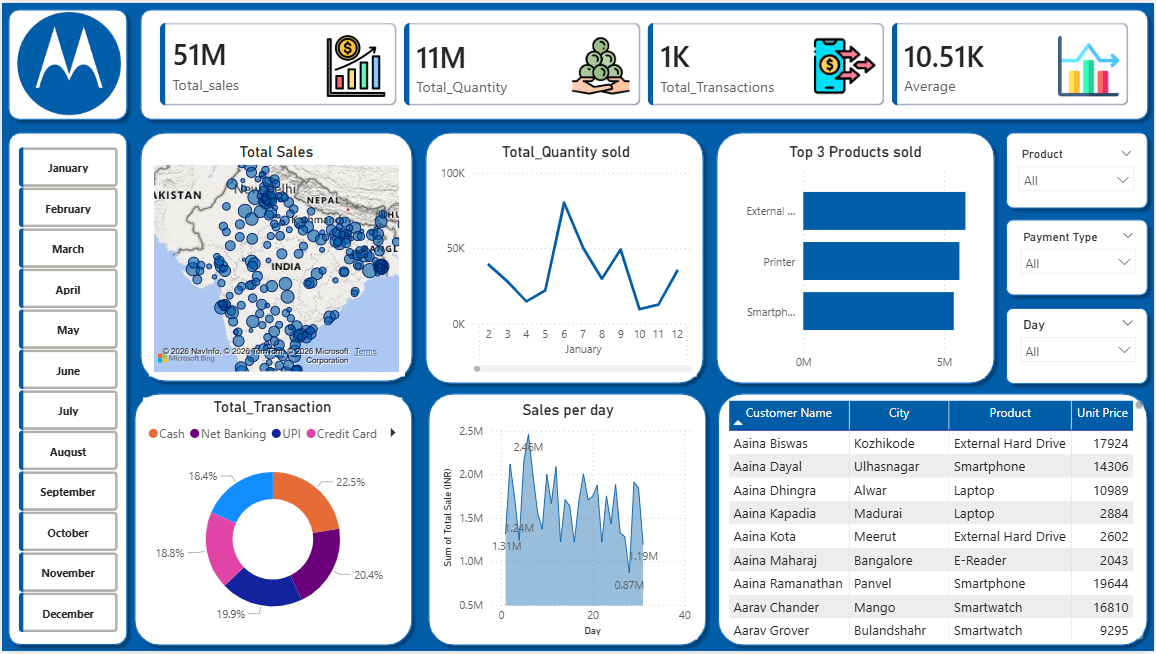

The page's visual inventory and layout, read from the dashboard file:
{"tool":"powerbi","page":{"name":"Page 1","canvas":[1280,720],"ordinal":0},"visuals":[{"type":"shape","box":[0,0,146.3,136.8],"z":0},{"type":"shape","box":[0,136.8,146.3,583.8],"z":1000},{"type":"advancedSlicerVisual","fields":{"Values":["Sales_Data.Sales Date.Variation.Date Hierarchy.Month"]},"box":[12.7,154.3,120.9,550.4],"z":2000},{"type":"shape","box":[146.3,0,1134.1,136.8],"z":3000},{"type":"cardVisual","fields":{"Data":["Sales_Data.Total_sales","Sales_Data.Total_Quantity","Sales_Data.Total_Transactions","Sales_Data.Average"]},"box":[163.8,9.5,1103.9,116.1],"z":4000},{"type":"shape","box":[146.3,136.8,316.5,291.1],"z":5000},{"type":"shape","box":[463.3,136.7,323.3,293.3],"z":6000},{"type":"map","title":"Total Sales","fields":{"Size":["Sum(Sales_Data.Total Sale (INR))"],"Category":["Sales_Data.City"]},"box":[163.8,154.3,283.1,259.3],"z":7000},{"type":"lineChart","title":"Total_Quantity sold","fields":{"Y":["Sales_Data.Total_Quantity"],"Category":["Sales_Data.Sales Date.Variation.Date Hierarchy.Month","Sales_Data.Sales Date.Variation.Date Hierarchy.Day"]},"box":[481.7,155,290,260],"z":8000},{"type":"shape","box":[786.7,136.7,323.3,293.3],"z":9000},{"type":"clusteredBarChart","title":"Top 3 Products sold","fields":{"Y":["Sum(Sales_Data.Total Sale (INR))"],"Category":["Sales_Data.Product"]},"box":[805,155,286.7,261.7],"z":10000},{"type":"shape","box":[140,426.3,322.9,294.3],"z":11000},{"type":"donutChart","title":"Total_Transaction","fields":{"Category":["Sales_Data.Payment Type"],"Y":["Sales_Data.Total_Transactions"]},"box":[157.5,439,287.9,265.6],"z":12000},{"type":"shape","box":[788.9,426.3,491.5,294.3],"z":13000},{"type":"tableEx","title":"Total_Transaction","fields":{"Values":["Sales_Data.Customer Name","Sales_Data.City","Sales_Data.Product","Sales_Data.Unit Price (INR)"]},"box":[806.4,442.2,451.7,265.6],"z":14000},{"type":"shape","box":[466,426.3,322.9,294.3],"z":15000},{"type":"areaChart","title":"Sales per day","fields":{"Category":["Sales_Data.Sales Date.Variation.Date Hierarchy.Day"],"Y":["Sum(Sales_Data.Total Sale (INR))"]},"box":[485.1,442.2,287.9,265.6],"z":16000},{"type":"shape","box":[1108.7,136.8,171.8,98.6],"z":17000},{"type":"slicer","fields":{"Values":["Sales_Data.Product"]},"box":[1119.8,154.3,147.9,65.2],"z":18000},{"type":"shape","box":[1108.7,330.8,171.8,98.6],"z":19000},{"type":"shape","box":[1108.7,233.8,171.8,98.6],"z":20000},{"type":"slicer","fields":{"Values":["Sales_Data.Payment Type"]},"box":[1121.4,246.5,147.9,73.2],"z":21000},{"type":"slicer","fields":{"Values":["Sales_Data.Sales Date.Variation.Date Hierarchy.Day"]},"box":[1121.4,343.6,147.9,73.2],"z":22000},{"type":"image","box":[14.3,9.5,119.3,114.5],"z":23000}]}

Visuals, with their boxes in screenshot pixels (x1, y1, x2, y2), scaled from the page's 1280x720 canvas onto the 1156x654 screenshot:
shape: [x1=0, y1=0, x2=132, y2=124]
shape: [x1=0, y1=124, x2=132, y2=653]
advancedSlicerVisual - Sales_Data.Sales Date.Variation.Date Hierarchy.Month: [x1=11, y1=140, x2=121, y2=640]
shape: [x1=132, y1=0, x2=1155, y2=124]
cardVisual - Sales_Data.Total_sales x Sales_Data.Total_Quantity: [x1=148, y1=9, x2=1145, y2=114]
shape: [x1=132, y1=124, x2=418, y2=389]
shape: [x1=418, y1=124, x2=710, y2=391]
"Total Sales" map: [x1=148, y1=140, x2=404, y2=376]
"Total_Quantity sold" lineChart: [x1=435, y1=141, x2=697, y2=377]
shape: [x1=710, y1=124, x2=1002, y2=391]
"Top 3 Products sold" clusteredBarChart: [x1=727, y1=141, x2=986, y2=379]
shape: [x1=126, y1=387, x2=418, y2=653]
"Total_Transaction" donutChart: [x1=142, y1=399, x2=402, y2=640]
shape: [x1=712, y1=387, x2=1155, y2=653]
"Total_Transaction" tableEx: [x1=728, y1=402, x2=1136, y2=643]
shape: [x1=421, y1=387, x2=712, y2=653]
"Sales per day" areaChart: [x1=438, y1=402, x2=698, y2=643]
shape: [x1=1001, y1=124, x2=1155, y2=214]
slicer - Sales_Data.Product: [x1=1011, y1=140, x2=1145, y2=199]
shape: [x1=1001, y1=300, x2=1155, y2=390]
shape: [x1=1001, y1=212, x2=1155, y2=302]
slicer - Sales_Data.Payment Type: [x1=1013, y1=224, x2=1146, y2=290]
slicer - Sales_Data.Sales Date.Variation.Date Hierarchy.Day: [x1=1013, y1=312, x2=1146, y2=379]
image: [x1=13, y1=9, x2=121, y2=113]
